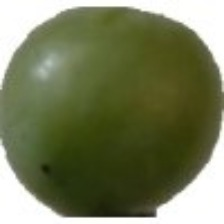grapes: (12, 41, 179, 202)
